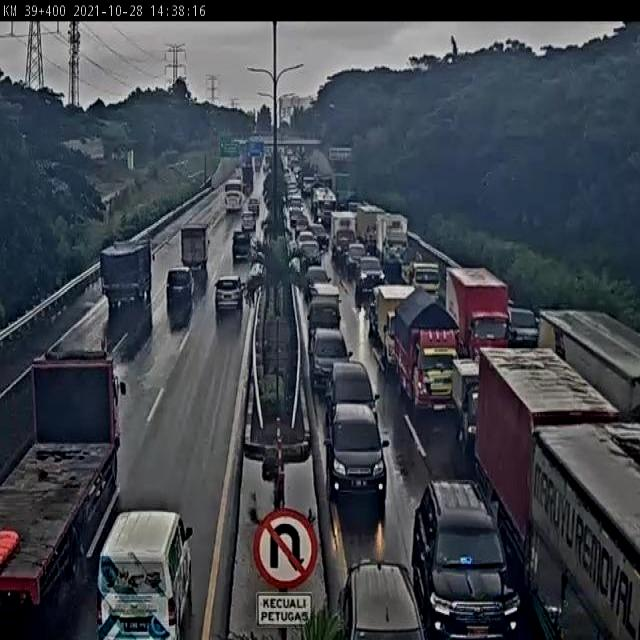Bus: (222, 178, 246, 214)
Car: (413, 480, 511, 640), (336, 554, 427, 640), (324, 406, 380, 499), (331, 360, 372, 421), (310, 328, 344, 389), (355, 255, 389, 297), (510, 300, 540, 347), (165, 260, 197, 304), (212, 274, 245, 310), (309, 300, 343, 329), (346, 236, 370, 271), (228, 227, 252, 260), (301, 240, 321, 272)
Truck: (0, 340, 119, 611), (525, 423, 639, 640), (470, 348, 606, 509), (542, 300, 639, 409), (386, 294, 464, 412), (448, 270, 512, 352), (98, 232, 160, 310), (448, 352, 482, 444), (372, 284, 413, 350), (175, 216, 218, 272), (375, 211, 416, 265), (408, 257, 446, 291), (353, 203, 382, 245)
Van: (83, 492, 209, 640)
